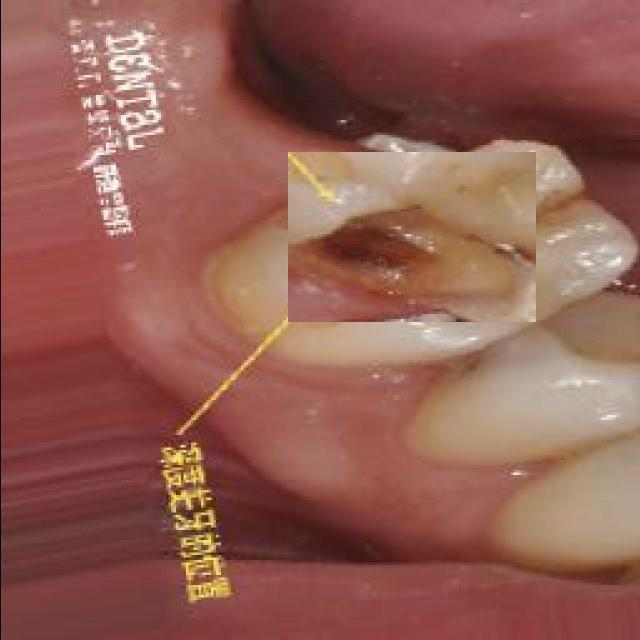decay: (287, 153, 535, 323)
